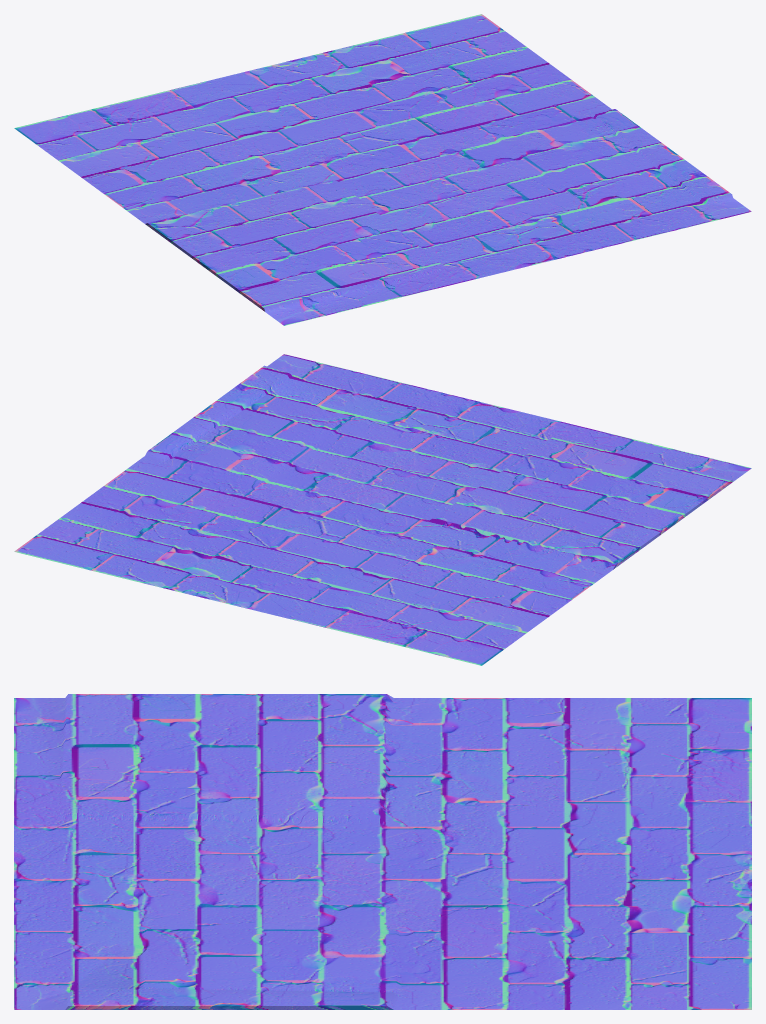
File: Dungeon_Floor.fbx
The picture shows the model from 3 angles, top to bottom: view 1: azimuth 30°, elevation 25°; view 2: azimuth 150°, elevation 25°; view 3: azimuth 270°, elevation 25°; orthographic projection. The views are drawn at different scales.
Visible parts, largest first — view 1: Dungeon_Floor; view 2: Dungeon_Floor; view 3: Dungeon_Floor.
Part boxes in pixels (<box>): Dungeon_Floor: <box>14,14,751,325</box>; Dungeon_Floor: <box>14,354,751,665</box>; Dungeon_Floor: <box>14,694,751,1009</box>.
Bounding box in the file's own units: 4 × 0.024 × 4.
